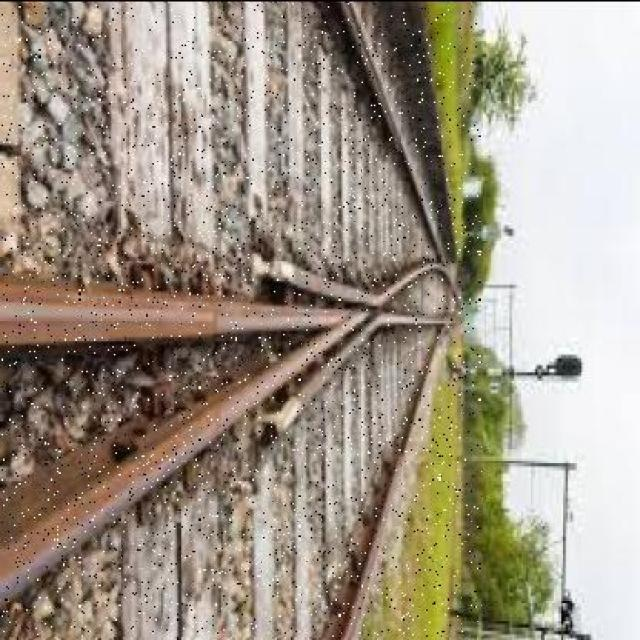rail: (2, 2, 481, 635)
